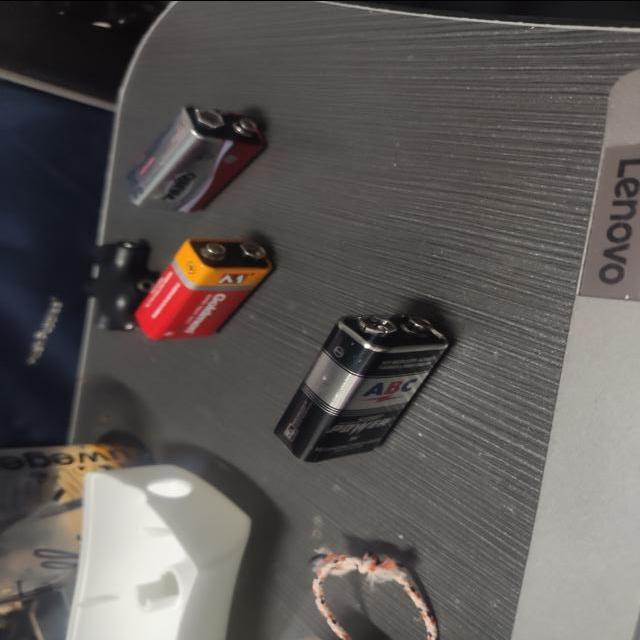9V: (253, 286, 472, 468), (120, 225, 296, 368), (112, 101, 286, 225)
